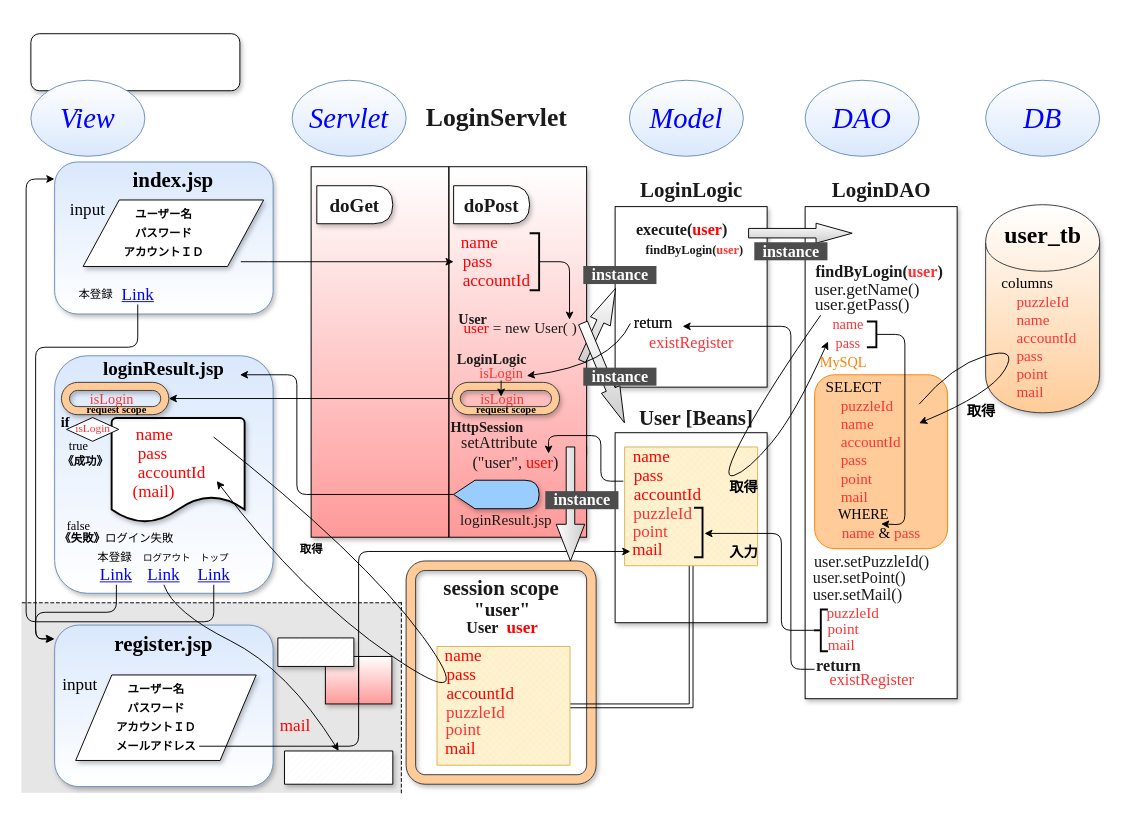
The diagram is 1138 pixels wide and 818 high, and some of its shapes have lost their labels. Here are the shapes that lost their labels. From the top down, the centre of each, then its label:
At pixel 136 63: "indexLogin機能".
At pixel 497 495: "forward".
At pixel 316 653: "RegisterServlet".
At pixel 339 768: "LogoutServlet".
